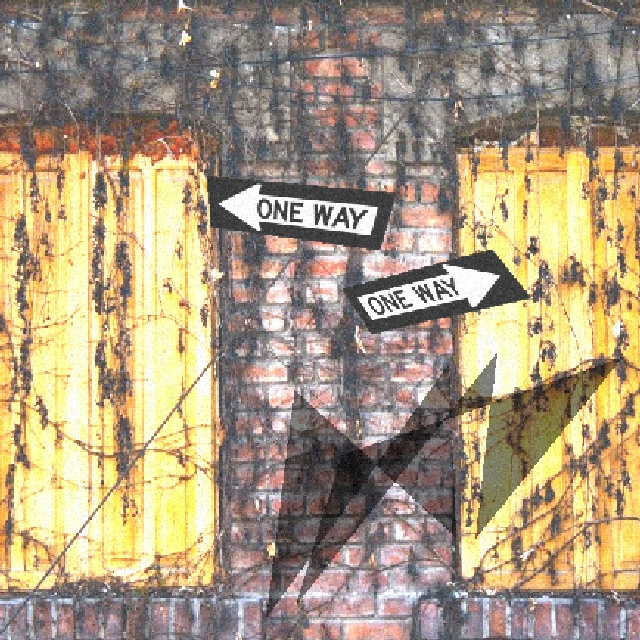ONE_WAY_ left: (205, 174, 395, 249)
ONE_WAY_ right: (340, 247, 530, 333)
